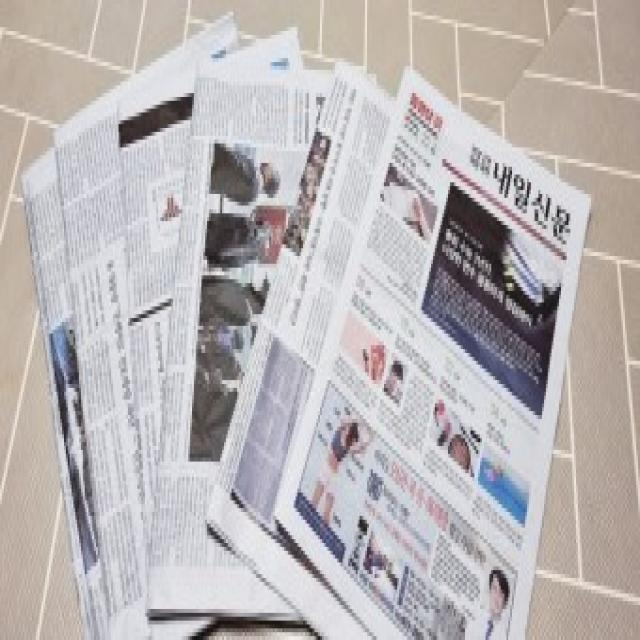reuseable_paper: (39, 28, 582, 640)
